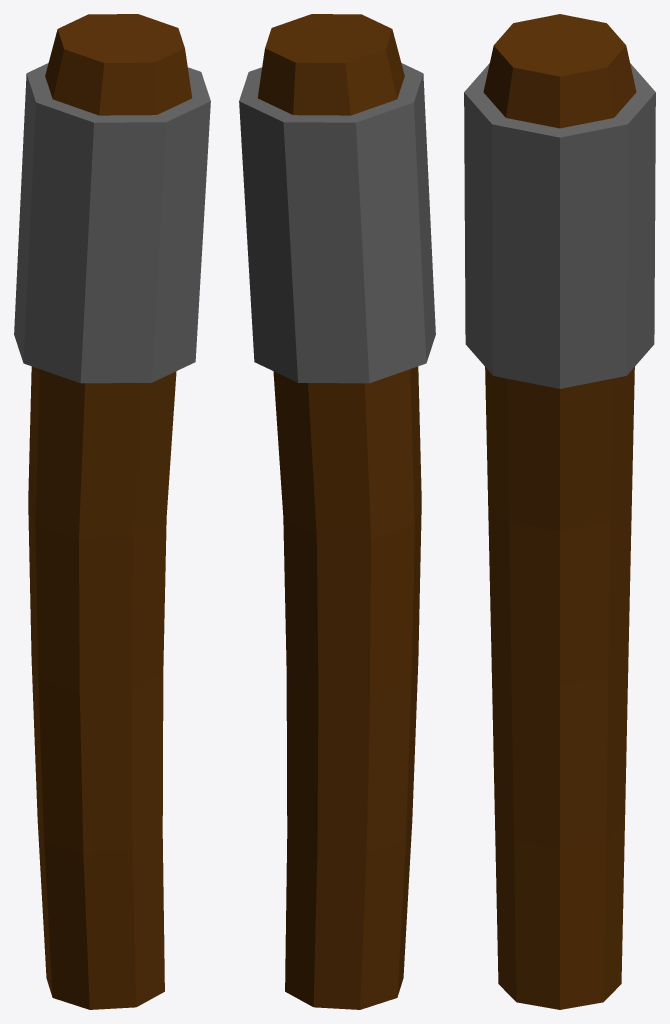
File: Torch.fbx
The picture shows the model from 3 angles, left to right: view 1: azimuth 30°, elevation 25°; view 2: azimuth 150°, elevation 25°; view 3: azimuth 270°, elevation 25°; orthographic projection.
Visible parts, largest first — view 1: Cylinder; view 2: Cylinder; view 3: Cylinder.
Part boxes in pixels (<box>): Cylinder: <box>14,14,210,1009</box>; Cylinder: <box>239,14,435,1009</box>; Cylinder: <box>464,14,655,1009</box>.
Size of the model in its own units: 6.99 by 35.51 by 6.5.
